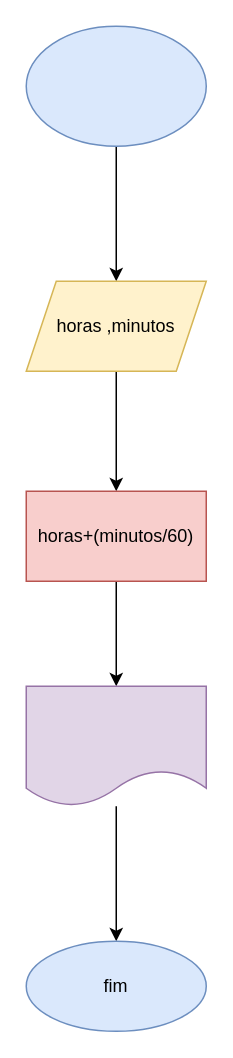
Some shapes in this 233 by 1058 pixel diagram are drawn without their labels. The centre of each missing label's shape, as x and y in pixels:
"inicio" goes at point 115,85.
"segundos" goes at point 115,745.
